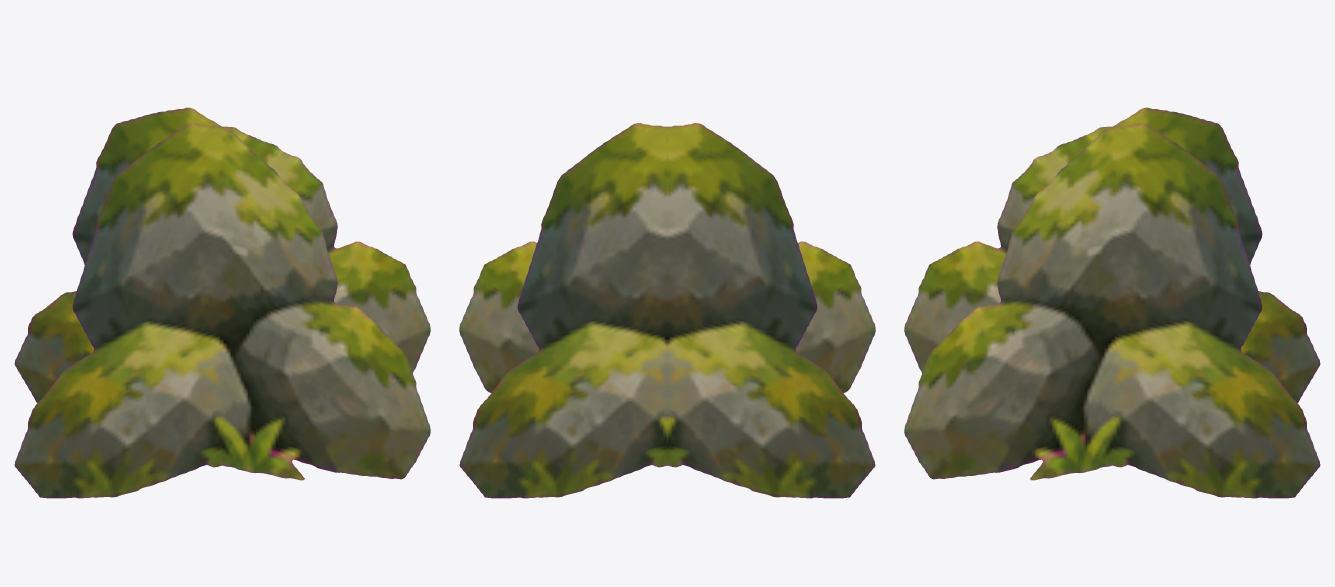
The model's file is h_racines_caillou.glb.
3 renders of one model, left to right at view 1: azimuth 30°, elevation 25°; view 2: azimuth 150°, elevation 25°; view 3: azimuth 270°, elevation 25°, orthographic.
Visible parts, largest first — view 1: h_racines_caillou; view 2: h_racines_caillou; view 3: h_racines_caillou.
Part boxes in pixels (bbox=[...]): h_racines_caillou: bbox=[14, 107, 430, 498]; h_racines_caillou: bbox=[459, 123, 875, 498]; h_racines_caillou: bbox=[904, 107, 1320, 498].
Size of the model in its own units: 0.3918 by 0.32 by 0.3393.
Materials: 1 (1 with a texture image).
